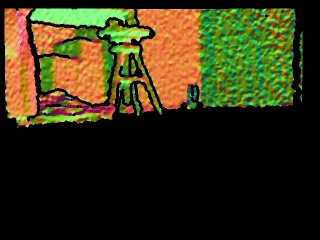station: (186, 84, 204, 110)
